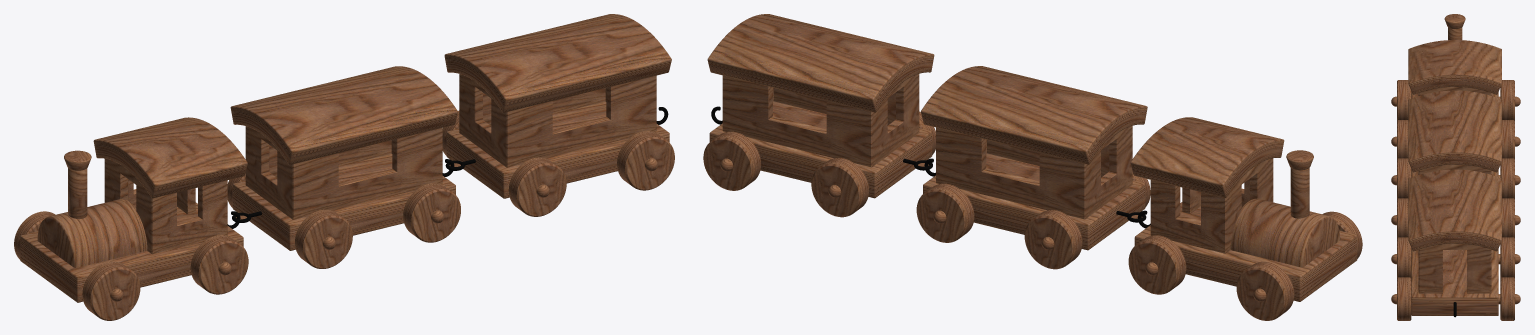
The model's file is train.FBX.
3 renders of one model, left to right at view 1: azimuth 30°, elevation 25°; view 2: azimuth 150°, elevation 25°; view 3: azimuth 270°, elevation 25°, orthographic. The views are drawn at different scales.
Visible parts, largest first — view 1: wheels, ToyTrainW01, ToyTrainLock, Object004, Object006, Object003, Object001, Object002, Object005; view 2: wheels, ToyTrainW01, ToyTrainLock, Object004, Object003, Object006, Object002, Object005, Object001; view 3: wheels, ToyTrainW01, ToyTrainLock, Object001, Object006, Object003, Object004, Object002, Object005.
Part boxes in pixels (bbox=[...]): wheels: bbox=[444, 14, 671, 198]; ToyTrainW01: bbox=[230, 66, 457, 250]; ToyTrainLock: bbox=[20, 117, 247, 302]; Object004: bbox=[14, 211, 140, 320]; Object006: bbox=[442, 110, 566, 216]; Object003: bbox=[227, 173, 352, 268]; Object001: bbox=[617, 131, 674, 190]; Object002: bbox=[403, 183, 460, 242]; Object005: bbox=[190, 235, 248, 294]; wheels: bbox=[707, 14, 934, 198]; ToyTrainW01: bbox=[921, 66, 1147, 250]; ToyTrainLock: bbox=[1130, 117, 1357, 301]; Object004: bbox=[1236, 211, 1362, 320]; Object003: bbox=[1024, 173, 1150, 269]; Object006: bbox=[811, 111, 935, 217]; Object002: bbox=[916, 183, 974, 242]; Object005: bbox=[1128, 235, 1186, 294]; Object001: bbox=[703, 131, 761, 190]; wheels: bbox=[1408, 169, 1501, 317]; ToyTrainW01: bbox=[1408, 90, 1501, 177]; ToyTrainLock: bbox=[1408, 14, 1501, 98]; Object001: bbox=[1391, 277, 1520, 320]; Object006: bbox=[1391, 237, 1520, 278]; Object003: bbox=[1391, 158, 1520, 198]; Object004: bbox=[1391, 80, 1520, 120]; Object002: bbox=[1391, 198, 1520, 237]; Object005: bbox=[1391, 120, 1520, 158].
Size of the model in its own units: 744 by 157 by 178.
6 materials, 5 textured.
